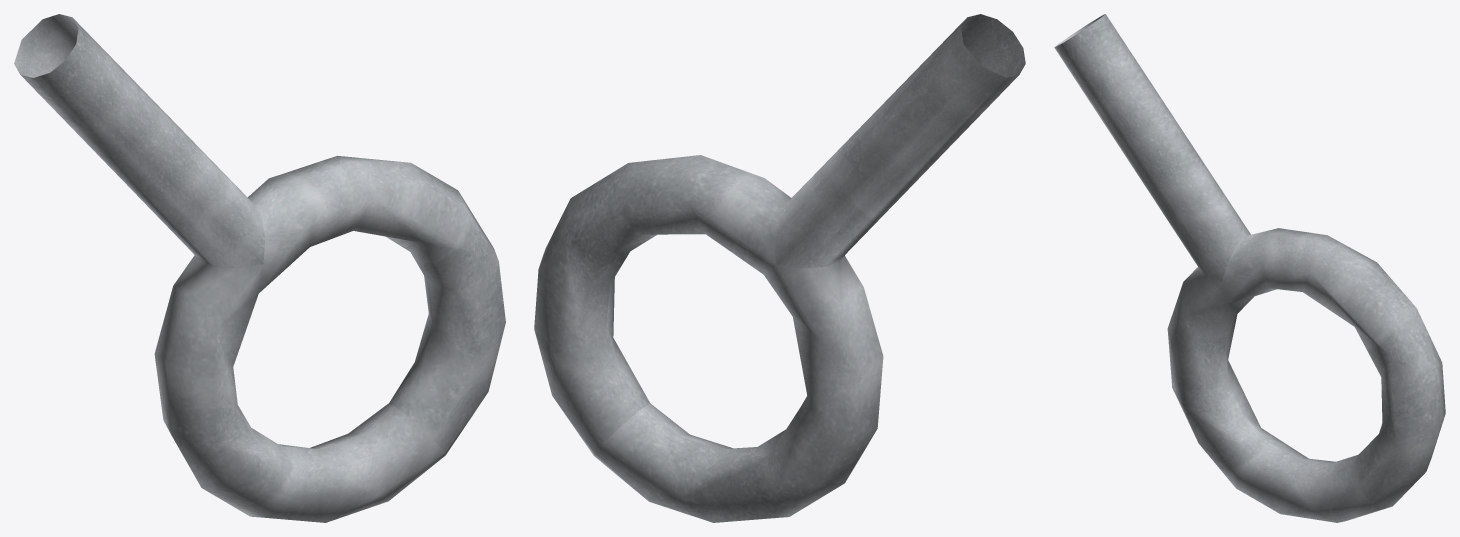
File: SM_ENV_KNFRST_RopePegL.FBX
The picture shows the model from 3 angles, left to right: view 1: azimuth 30°, elevation 25°; view 2: azimuth 150°, elevation 25°; view 3: azimuth 330°, elevation 25°; orthographic projection. The views are drawn at different scales.
Visible parts, largest first — view 1: SM_ENV_KNFRST_RopePegL; view 2: SM_ENV_KNFRST_RopePegL; view 3: SM_ENV_KNFRST_RopePegL.
Boxes of the visible parts, x1,y1,x2,y2 form: SM_ENV_KNFRST_RopePegL: (14,14,505,522); SM_ENV_KNFRST_RopePegL: (534,14,1025,522); SM_ENV_KNFRST_RopePegL: (1054,14,1445,522).
Bounding box in the file's own units: 149 × 167 × 21.31.
